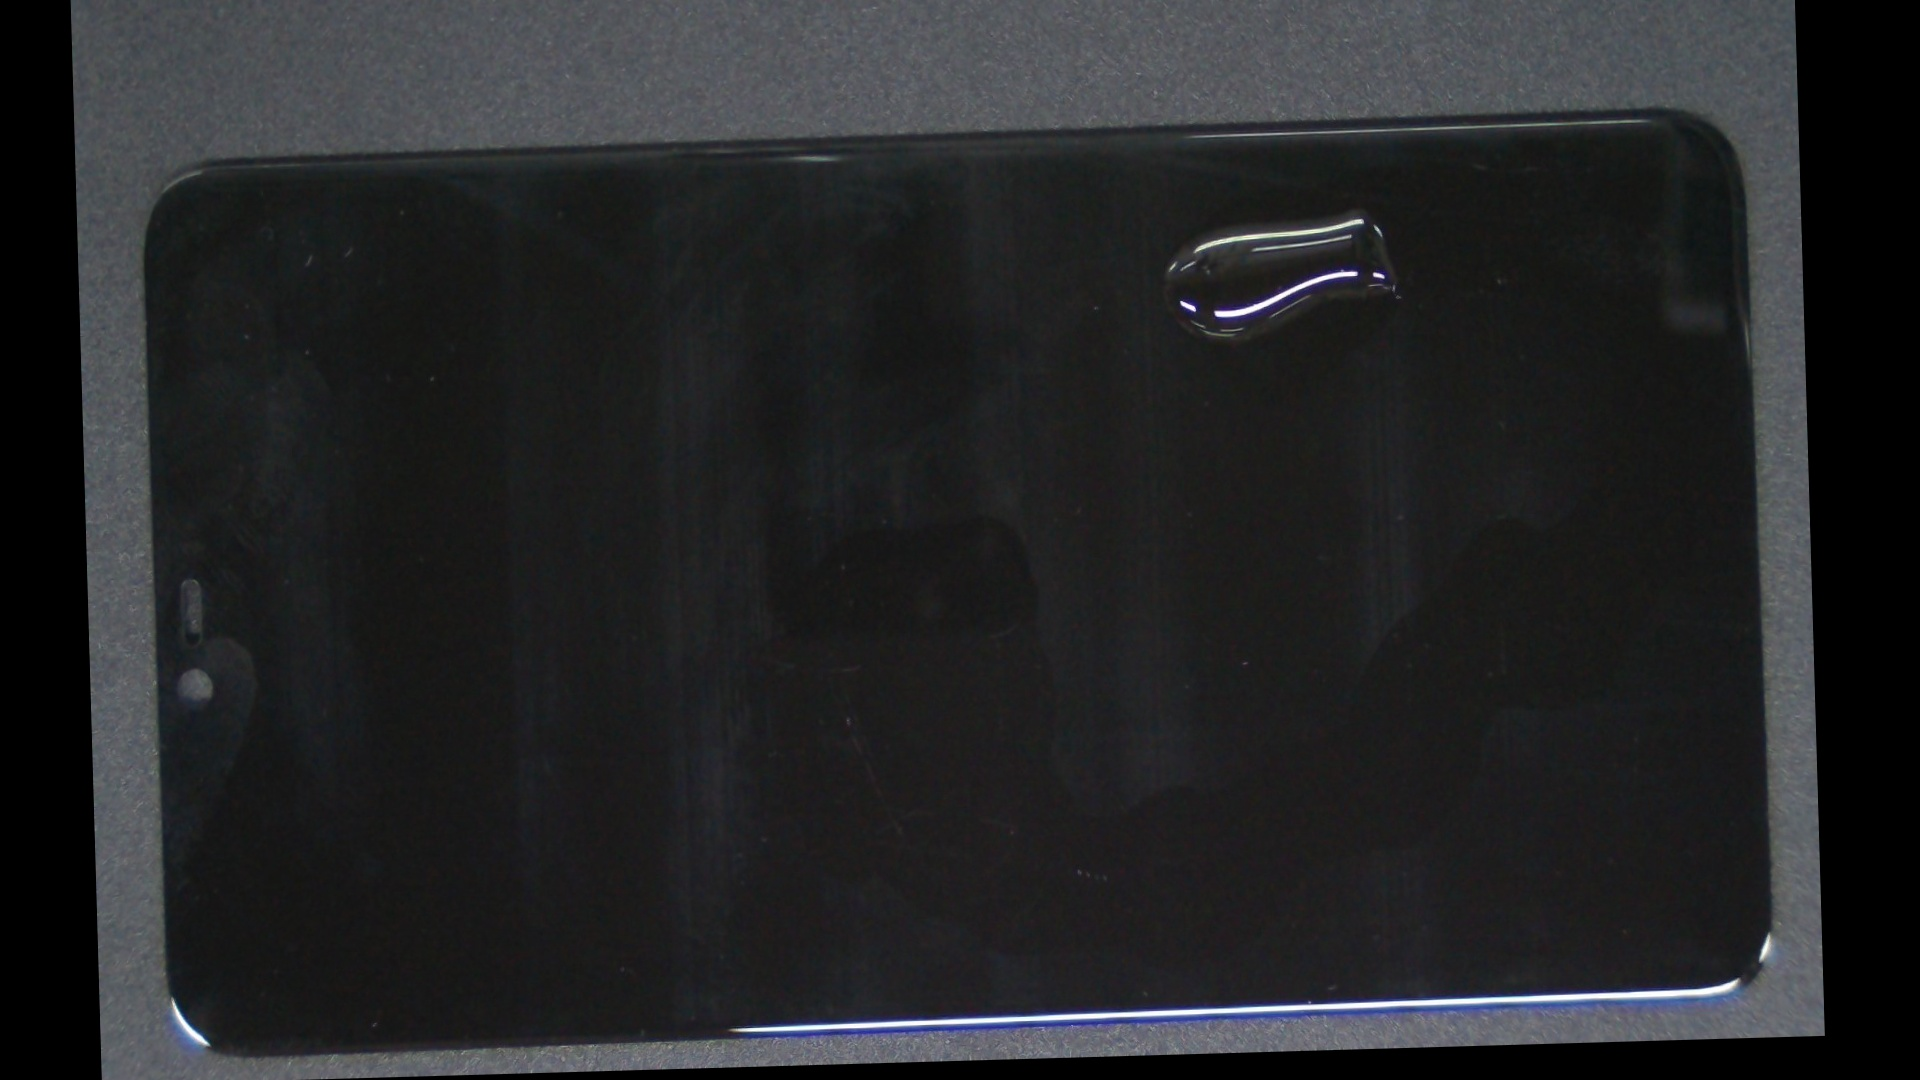oil: (716, 47, 1805, 373)
